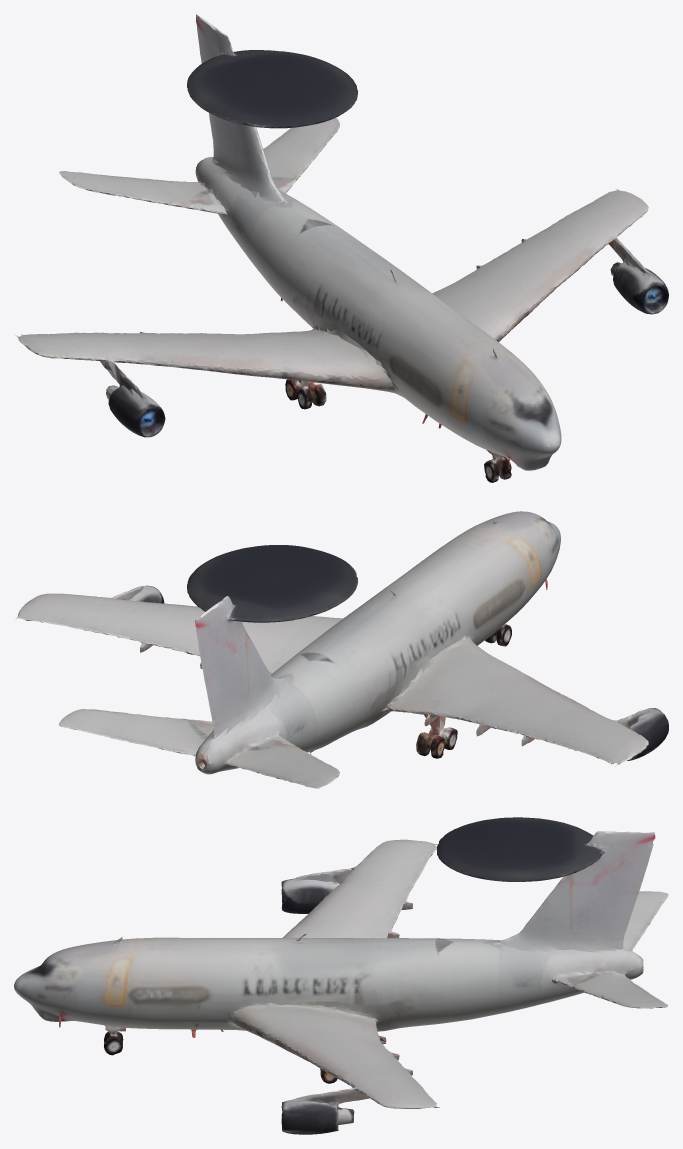
The model's file is E-3G_Sentry_AI_Rodin.glb.
The picture shows the model from 3 angles, top to bottom: view 1: azimuth 30°, elevation 25°; view 2: azimuth 150°, elevation 25°; view 3: azimuth 270°, elevation 25°; orthographic projection. The views are drawn at different scales.
Visible parts, largest first — view 1: model; view 2: model; view 3: model.
Boxes of the visible parts, bbox=[...] form: model: bbox=[15, 14, 668, 482]; model: bbox=[15, 511, 668, 788]; model: bbox=[14, 817, 668, 1134].
Size of the model in its own units: 1.84 by 0.7054 by 1.9.
1 material, 1 textured.
